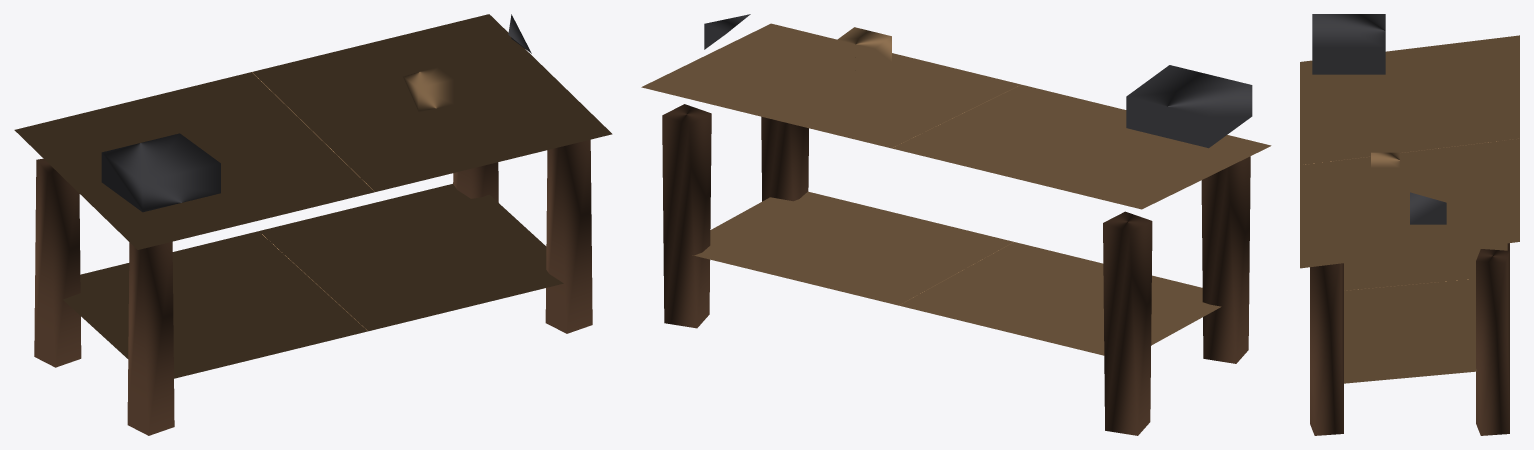
Rendered from workbench_lod1.glb.
3 views of the same model, side by side, from view 1: azimuth 30°, elevation 25°; view 2: azimuth 150°, elevation 25°; view 3: azimuth 270°, elevation 25° (orthographic). The views are drawn at different scales.
Bounding box in the file's own units: 2 × 1.04 × 0.9.
